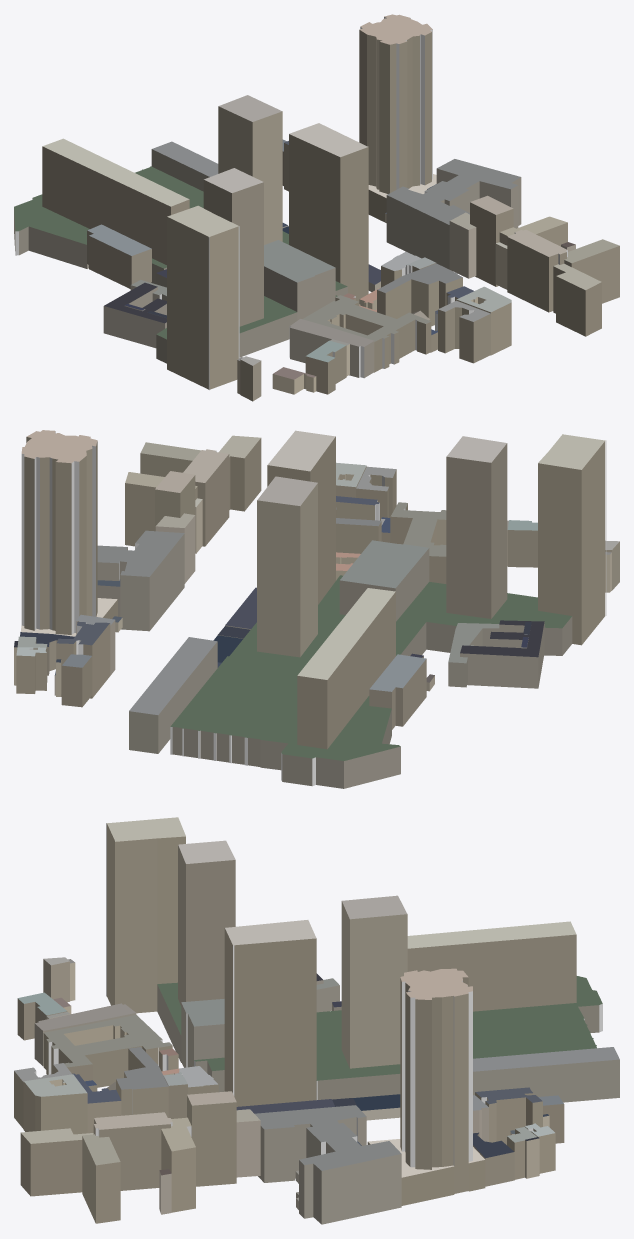
3 views of the same model, one above another, from view 1: azimuth 30°, elevation 25°; view 2: azimuth 150°, elevation 25°; view 3: azimuth 270°, elevation 25° (orthographic). The views are drawn at different scales.
Parts seen in each view (by area): view 1: tuile; view 2: tuile; view 3: tuile.
Boxes of the visible parts, box(x1,y1,x2,y2) form: tuile: box(14, 14, 619, 401); tuile: box(14, 430, 619, 788); tuile: box(14, 817, 619, 1224).
Bounding box in the file's own units: 272 × 110 × 293.
